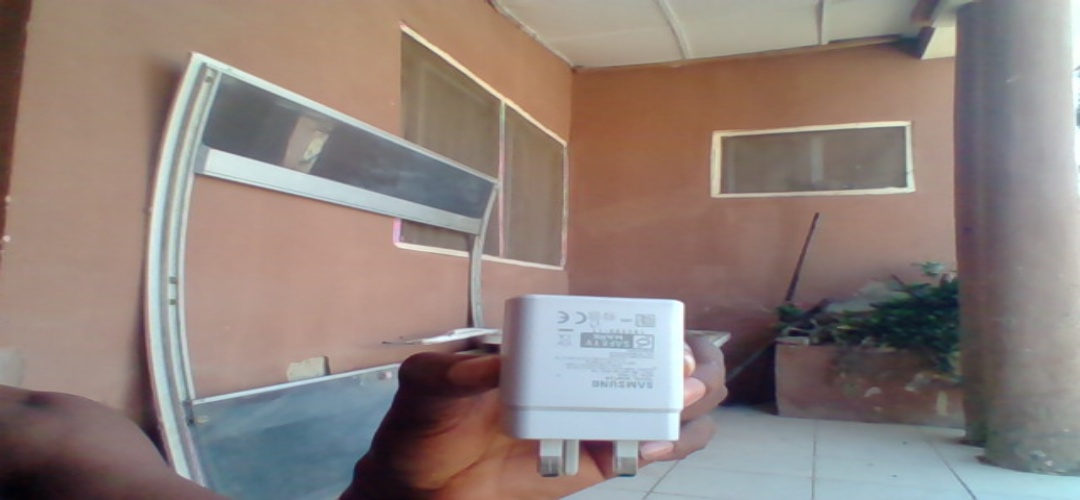phone_charger: (501, 295, 688, 478)
